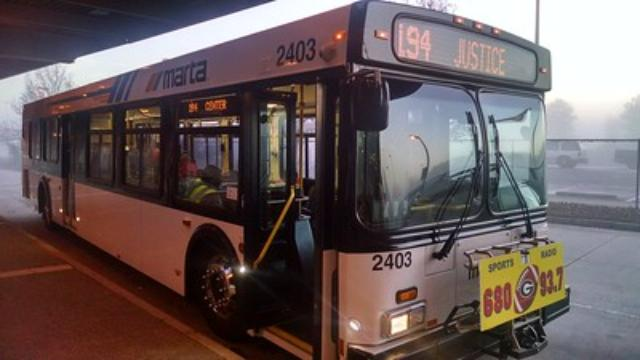bus: (21, 2, 568, 360)
